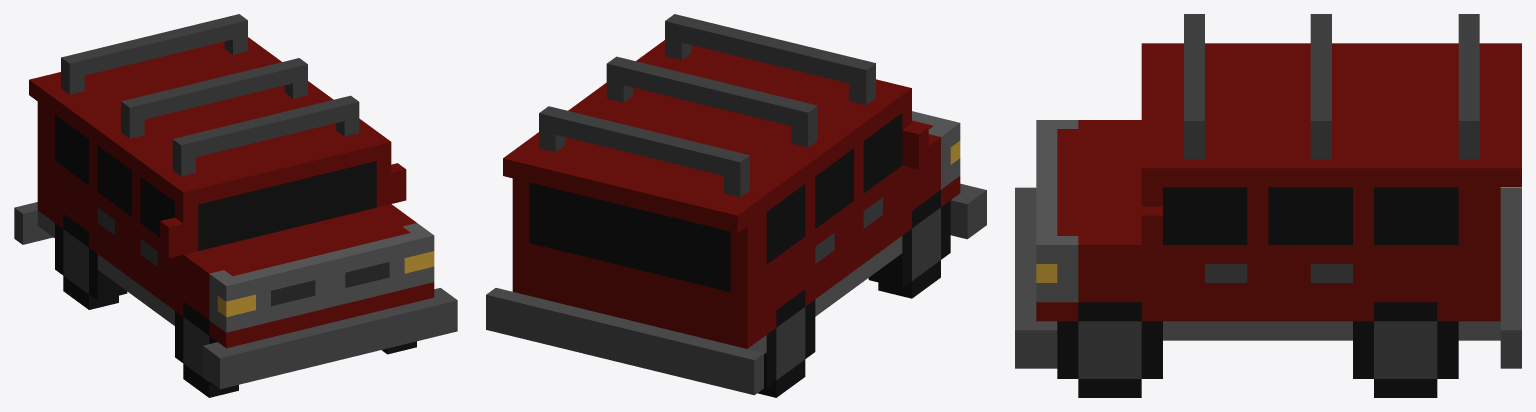
File: jeep_red.fbx
3 views of the same model, side by side, from view 1: azimuth 30°, elevation 25°; view 2: azimuth 150°, elevation 25°; view 3: azimuth 270°, elevation 25° (orthographic). The views are drawn at different scales.
Visible parts, largest first — view 1: Matrix_3; view 2: Matrix_3; view 3: Matrix_3.
Part boxes in pixels (box(x1,y1,x2,y2)): Matrix_3: box(14, 14, 457, 397); Matrix_3: box(486, 14, 986, 397); Matrix_3: box(1015, 14, 1521, 397).
Size of the model in its own units: 16 by 14 by 24.
